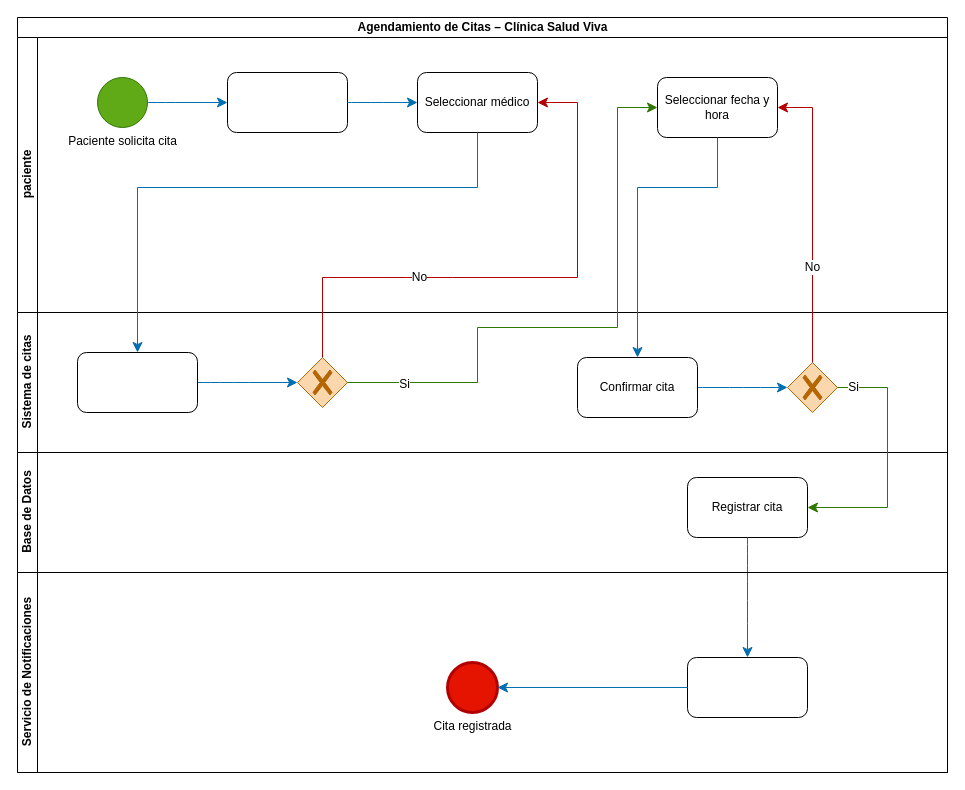
Some shapes in this 965 by 790 pixel diagram are drawn without their labels. Here are the shapes that lost their labels. From the top down, the centre of each, then its label:
pixel 287 102: Seleccionar especialidad
pixel 137 382: Validar disponibilidad de médico
pixel 322 382: ¿Está disponible?
pixel 812 387: ¿Se confirma?
pixel 747 687: Enviar correo/SMS
